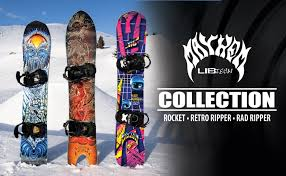snowboard: (64, 10, 100, 168), (115, 10, 147, 168), (19, 19, 50, 167)
